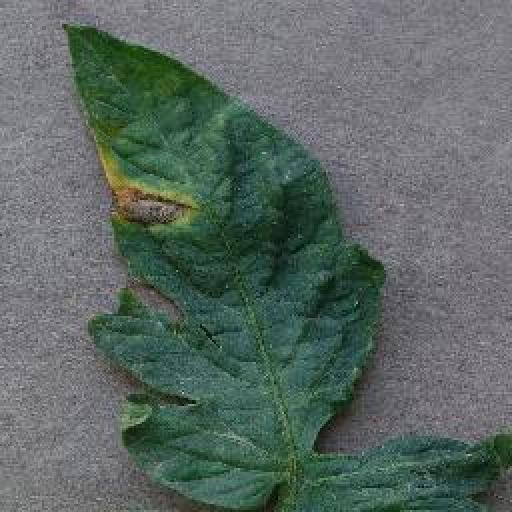disease_tomato: (58, 21, 389, 512)
